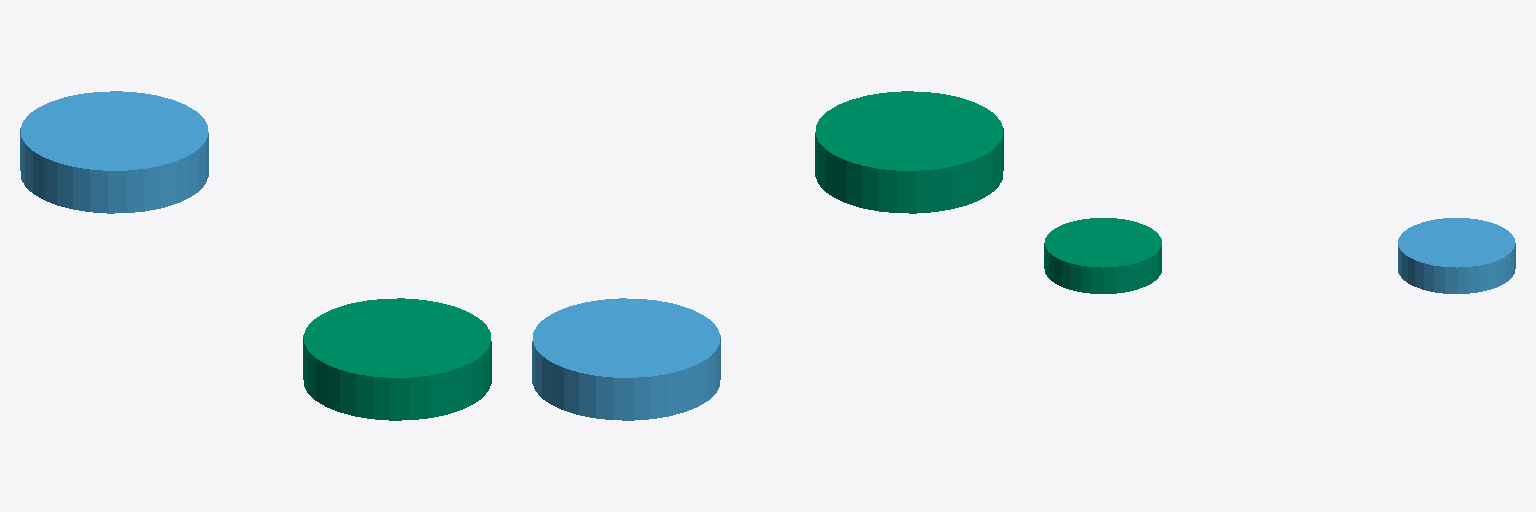
URDF robot description (clean_bot):
<?xml version="1.0"?>
<!-- Minimal, fully consistent reference project: every source agrees. -->
<robot name="clean_bot">
  <link name="base_link">
    <inertial>
      <origin xyz="0 0 0.03" rpy="0 0 0"/>
      <mass value="1.5"/>
      <inertia ixx="0.004" iyy="0.005" izz="0.006" ixy="0" ixz="0" iyz="0"/>
    </inertial>
  </link>
  <link name="left_wheel">
    <inertial>
      <mass value="0.1"/>
      <inertia ixx="0.00005" iyy="0.00009" izz="0.00009" ixy="0" ixz="0" iyz="0"/>
    </inertial>
    <visual><geometry><cylinder radius="0.05" length="0.025"/></geometry></visual>
  </link>
  <link name="right_wheel">
    <inertial>
      <mass value="0.1"/>
      <inertia ixx="0.00005" iyy="0.00009" izz="0.00009" ixy="0" ixz="0" iyz="0"/>
    </inertial>
    <visual><geometry><cylinder radius="0.05" length="0.025"/></geometry></visual>
  </link>
  <joint name="left_wheel_joint" type="continuous">
    <parent link="base_link"/>
    <child link="left_wheel"/>
    <origin xyz="0 0.15 0.05" rpy="0 0 0"/>
    <axis xyz="0 1 0"/>
  </joint>
  <joint name="right_wheel_joint" type="continuous">
    <parent link="base_link"/>
    <child link="right_wheel"/>
    <origin xyz="0 -0.15 0.05" rpy="0 0 0"/>
    <axis xyz="0 1 0"/>
  </joint>
  <gazebo>
    <plugin name="diff_drive" filename="libgazebo_ros_diff_drive.so">
      <update_rate>20</update_rate>
      <wheel_separation>0.30</wheel_separation>
      <wheel_diameter>0.10</wheel_diameter>
    </plugin>
  </gazebo>
</robot>

--- Render facts (derived) ---
3 views of the same robot in one strip: view 1: azimuth 30°, elevation 25°; view 2: azimuth 150°, elevation 25°; view 3: azimuth 270°, elevation 25° (orthographic).
Model clean_bot with 3 links and 2 joints (2 continuous), rooted at base_link, posed every joint at zero.
Visible links, largest first — view 1: left_wheel, right_wheel; view 2: left_wheel, right_wheel; view 3: left_wheel, right_wheel.
Link boxes in pixels (x1,y1,x2,y2): left_wheel: [20, 91, 208, 213]; right_wheel: [303, 298, 491, 420]; left_wheel: [532, 298, 720, 420]; right_wheel: [815, 91, 1003, 213]; left_wheel: [1398, 218, 1515, 293]; right_wheel: [1044, 218, 1161, 293].
Bounding box of the posed robot: 0.1 × 0.4 × 0.025 m (x, y, z).
Geometry: primitives only (box / cylinder / sphere), no mesh files.
